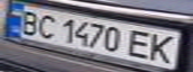0: (103, 24, 127, 54)
1: (54, 16, 78, 44)
4: (72, 19, 90, 47)
7: (87, 20, 106, 50)
B: (15, 8, 45, 35)
C: (33, 11, 60, 39)
E: (124, 28, 157, 60)
K: (145, 31, 181, 64)
